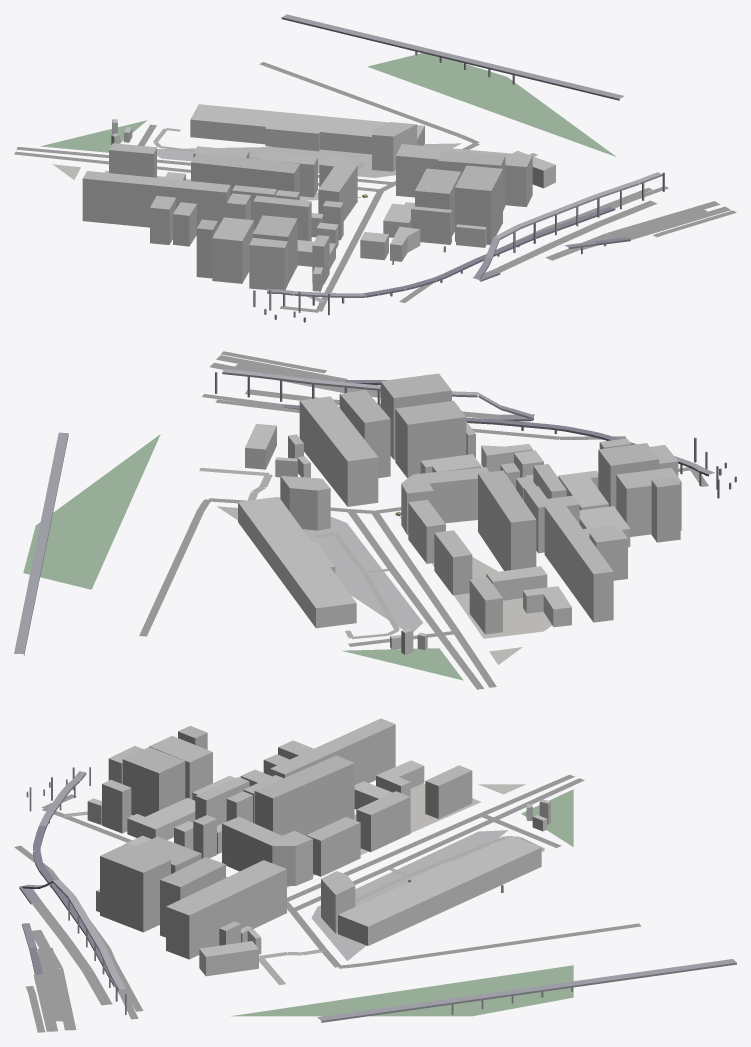
The picture shows the model from 3 angles, top to bottom: view 1: azimuth 30°, elevation 25°; view 2: azimuth 150°, elevation 25°; view 3: azimuth 270°, elevation 25°; orthographic projection. The views are drawn at different scales.
Bounding box in the file's own units: 598 × 63.51 × 659.
